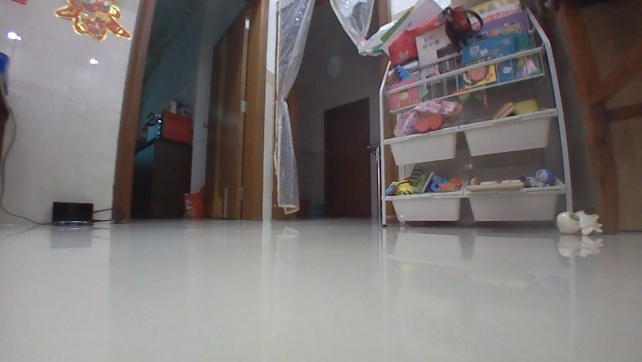charger: (47, 199, 98, 227)
door_anno: (202, 0, 270, 221), (320, 95, 374, 221)
wire: (0, 103, 46, 227), (91, 205, 116, 222)
